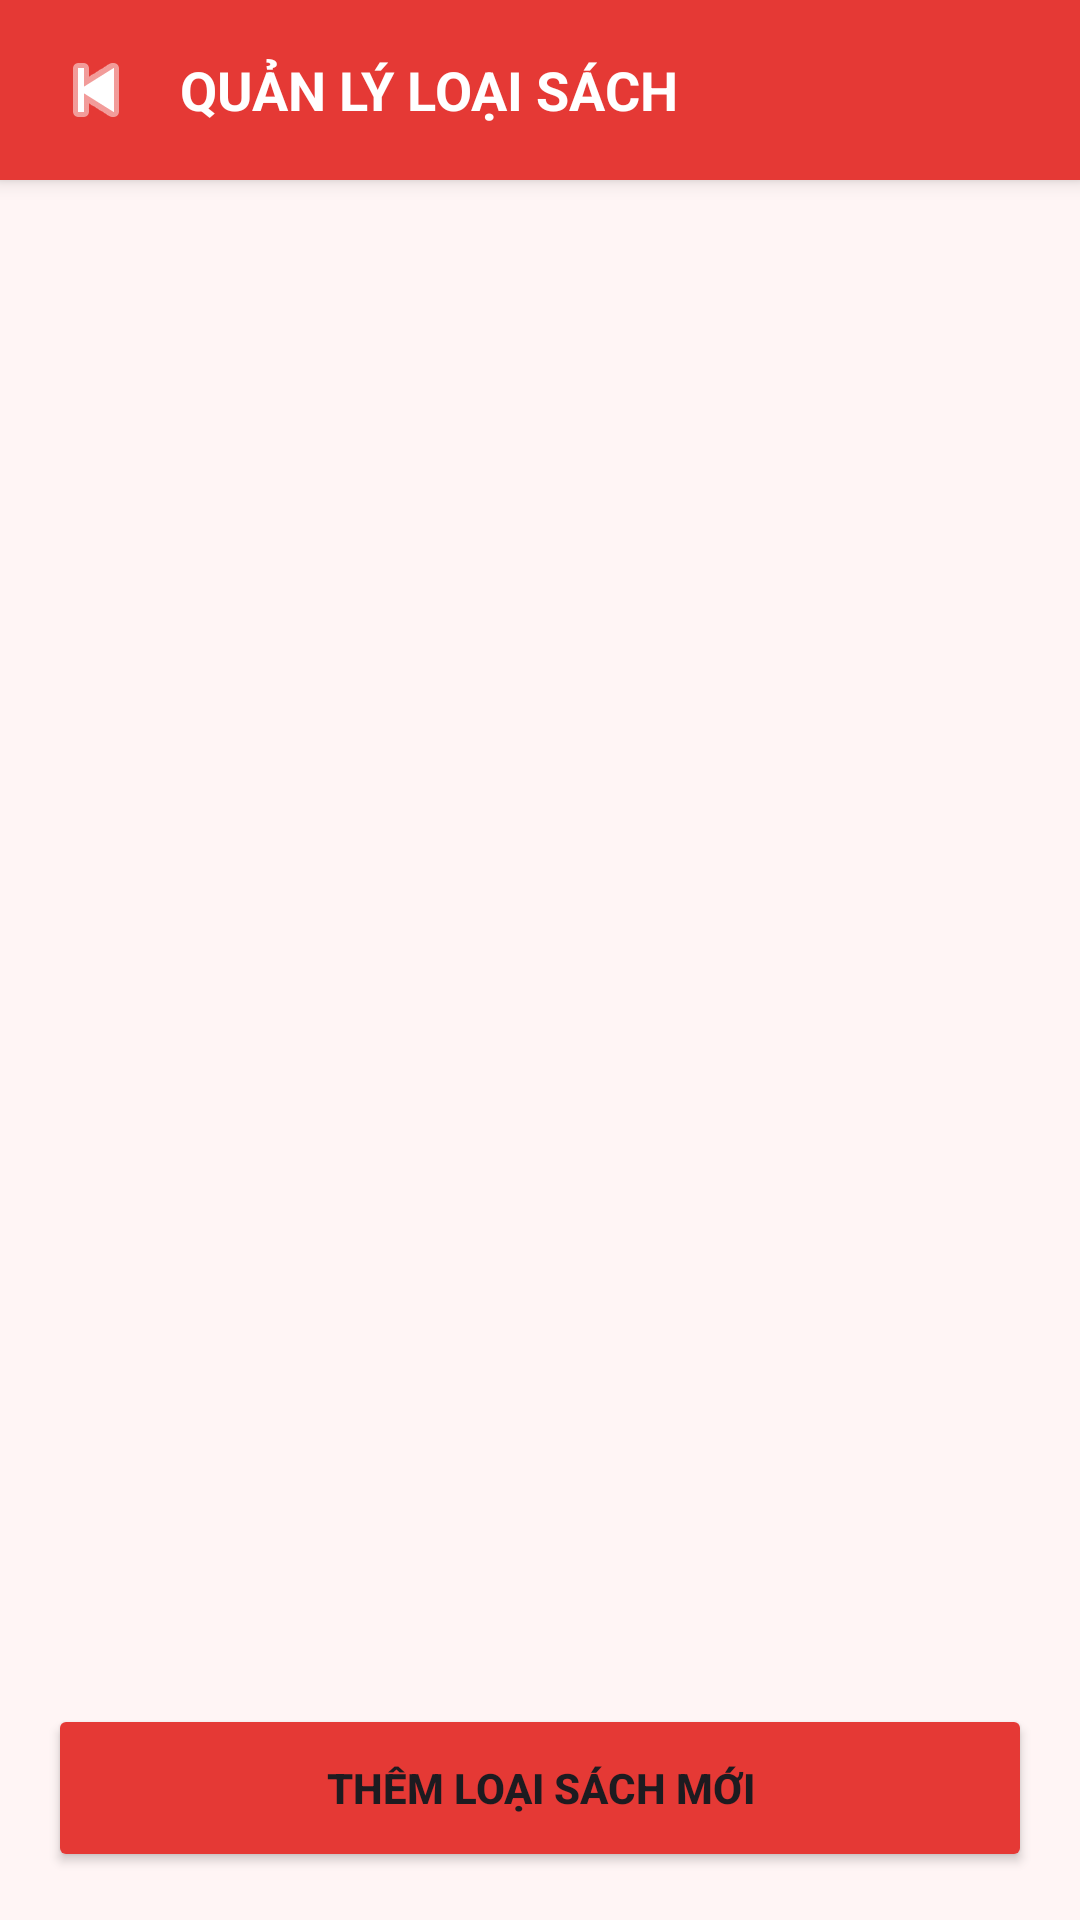

Point at icon controls on the screen. Image size 1080 x 1920, points as point (x, y).
previous: point (96, 90)
